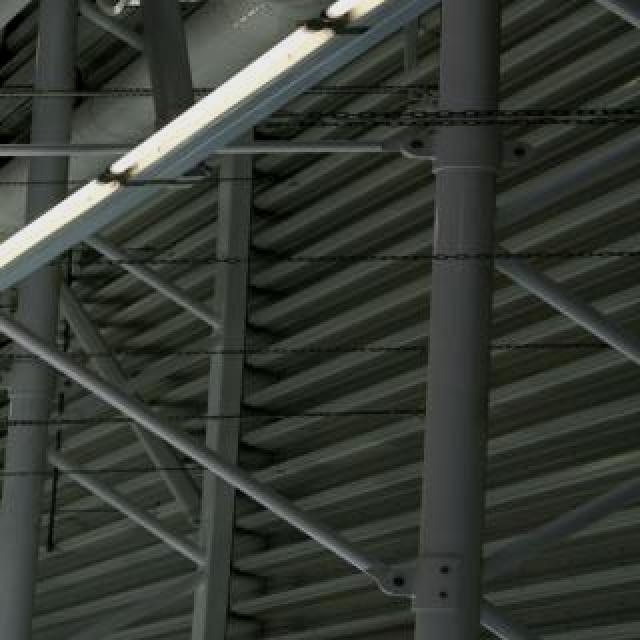fluorescent tube: (92, 0, 340, 192), (0, 162, 130, 298), (298, 0, 640, 44)
